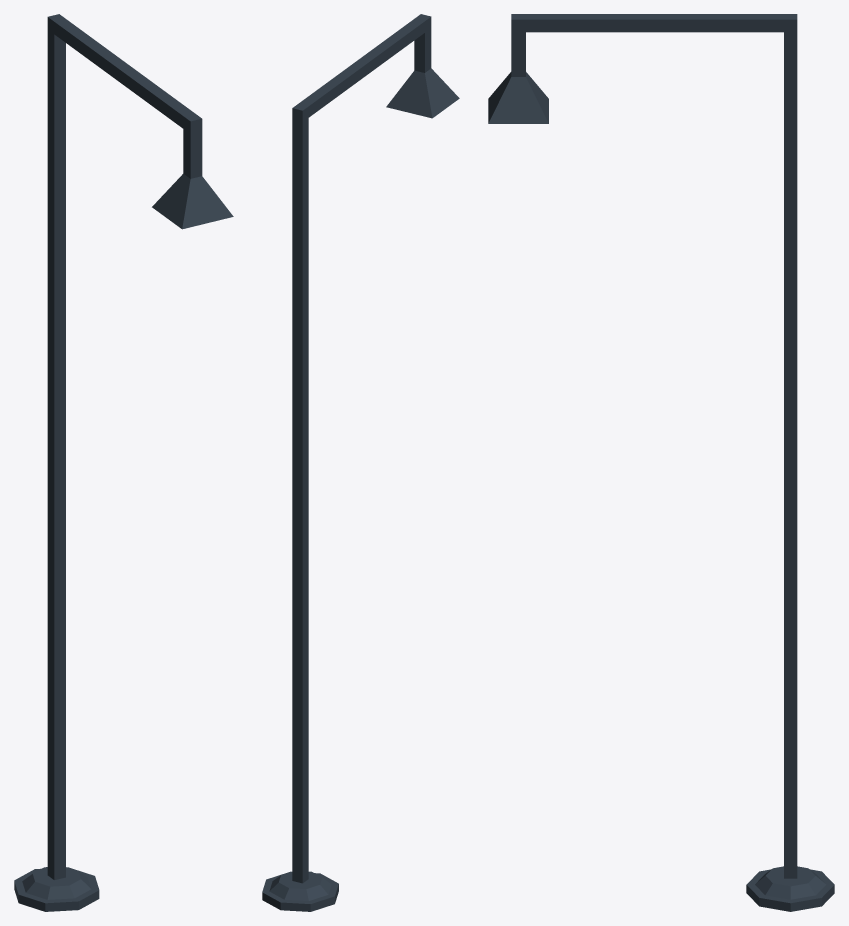
The model's file is city_light_broken.fbx.
3 views of the same model, side by side, from view 1: azimuth 30°, elevation 25°; view 2: azimuth 150°, elevation 25°; view 3: azimuth 270°, elevation 25° (orthographic). The views are drawn at different scales.
Visible parts, largest first — view 1: city_light_Part_10, city_light_Part_11, city_light_Part_9, city_light_Part_3, city_light_Part_5, city_light_Part_6, city_light_Part_7, city_light_Part_4, city_light_Part_8; view 2: city_light_Part_10, city_light_Part_11, city_light_Part_3, city_light_Part_9, city_light_Part_5, city_light_Part_7, city_light_Part_6, city_light_Part_4, city_light_Part_2, city_light_Part_8, city_light_Part_12; view 3: city_light_Part_10, city_light_Part_3, city_light_Part_9, city_light_Part_11, city_light_Part_5, city_light_Part_12, city_light_Part_7, city_light_Part_4, city_light_Part_1.
Part boxes in pixels (x1=…): city_light_Part_10: x1=119, y1=66, x2=233, y2=229; city_light_Part_11: x1=47, y1=282, x2=65, y2=481; city_light_Part_9: x1=14, y1=836, x2=99, y2=911; city_light_Part_3: x1=47, y1=14, x2=129, y2=127; city_light_Part_5: x1=47, y1=123, x2=65, y2=287; city_light_Part_6: x1=47, y1=732, x2=65, y2=840; city_light_Part_7: x1=47, y1=478, x2=65, y2=574; city_light_Part_4: x1=47, y1=574, x2=65, y2=651; city_light_Part_8: x1=47, y1=672, x2=65, y2=733; city_light_Part_10: x1=357, y1=14, x2=459, y2=118; city_light_Part_11: x1=292, y1=345, x2=308, y2=525; city_light_Part_3: x1=292, y1=61, x2=366, y2=208; city_light_Part_9: x1=262, y1=843, x2=338, y2=911; city_light_Part_5: x1=292, y1=200, x2=308, y2=348; city_light_Part_7: x1=292, y1=520, x2=308, y2=612; city_light_Part_6: x1=295, y1=746, x2=308, y2=851; city_light_Part_4: x1=292, y1=605, x2=308, y2=674; city_light_Part_2: x1=292, y1=672, x2=308, y2=725; city_light_Part_8: x1=292, y1=695, x2=308, y2=755; city_light_Part_12: x1=292, y1=745, x2=298, y2=849; city_light_Part_10: x1=488, y1=14, x2=654, y2=123; city_light_Part_3: x1=654, y1=14, x2=797, y2=131; city_light_Part_9: x1=746, y1=837, x2=834, y2=911; city_light_Part_11: x1=784, y1=283, x2=797, y2=481; city_light_Part_5: x1=784, y1=128, x2=797, y2=283; city_light_Part_12: x1=784, y1=727, x2=797, y2=842; city_light_Part_7: x1=784, y1=480, x2=797, y2=578; city_light_Part_4: x1=784, y1=575, x2=797, y2=648; city_light_Part_1: x1=784, y1=648, x2=797, y2=729.
Bounding box in the file's own units: 92 × 1008 × 361.
Materials: 1 (1 with a texture image).
